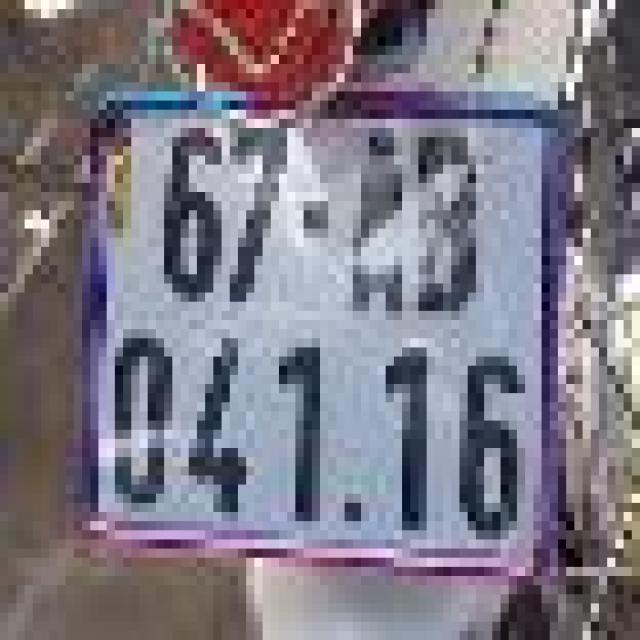0: (106, 329, 180, 512)
1: (373, 338, 439, 540), (267, 329, 332, 530)
4: (189, 329, 254, 521)
6: (152, 119, 226, 311), (456, 348, 530, 540)
7: (230, 114, 295, 316)
A: (349, 123, 414, 324)
B: (418, 119, 492, 338)
